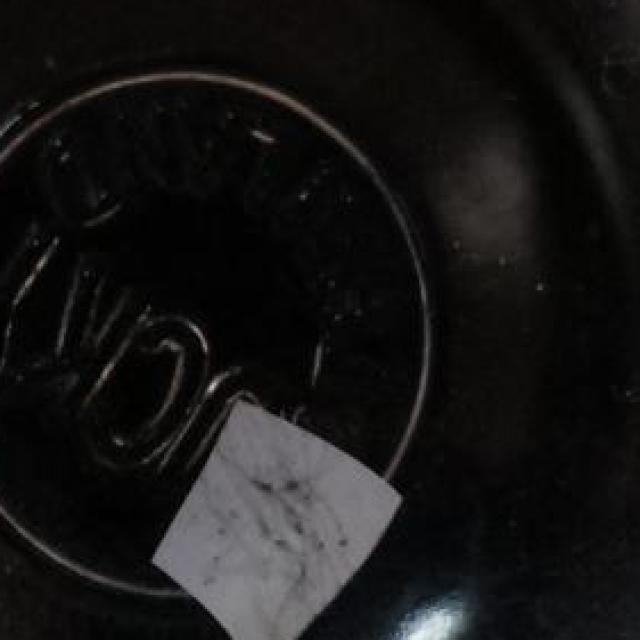Microplastic: (139, 380, 403, 640)
